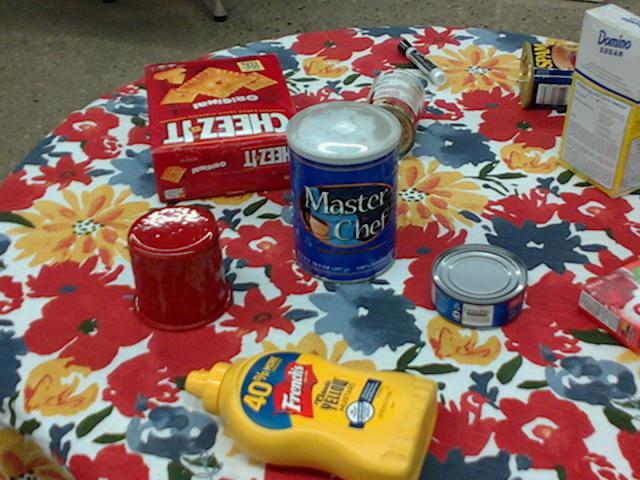cracker_box: (146, 53, 306, 199)
gelatin_box: (576, 258, 639, 353)
large_marker: (398, 38, 446, 83)
master_chef_can: (284, 100, 399, 284)
mug: (126, 204, 233, 332)
mustard_bottle: (186, 348, 440, 479)
potted_meat_can: (518, 38, 596, 107)
sugar_box: (556, 5, 639, 198)
tomato_soup_can: (356, 67, 423, 158)
tuna_fish_can: (432, 244, 528, 330)
